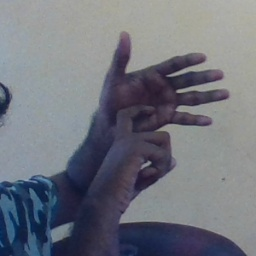R: (84, 27, 232, 185)
